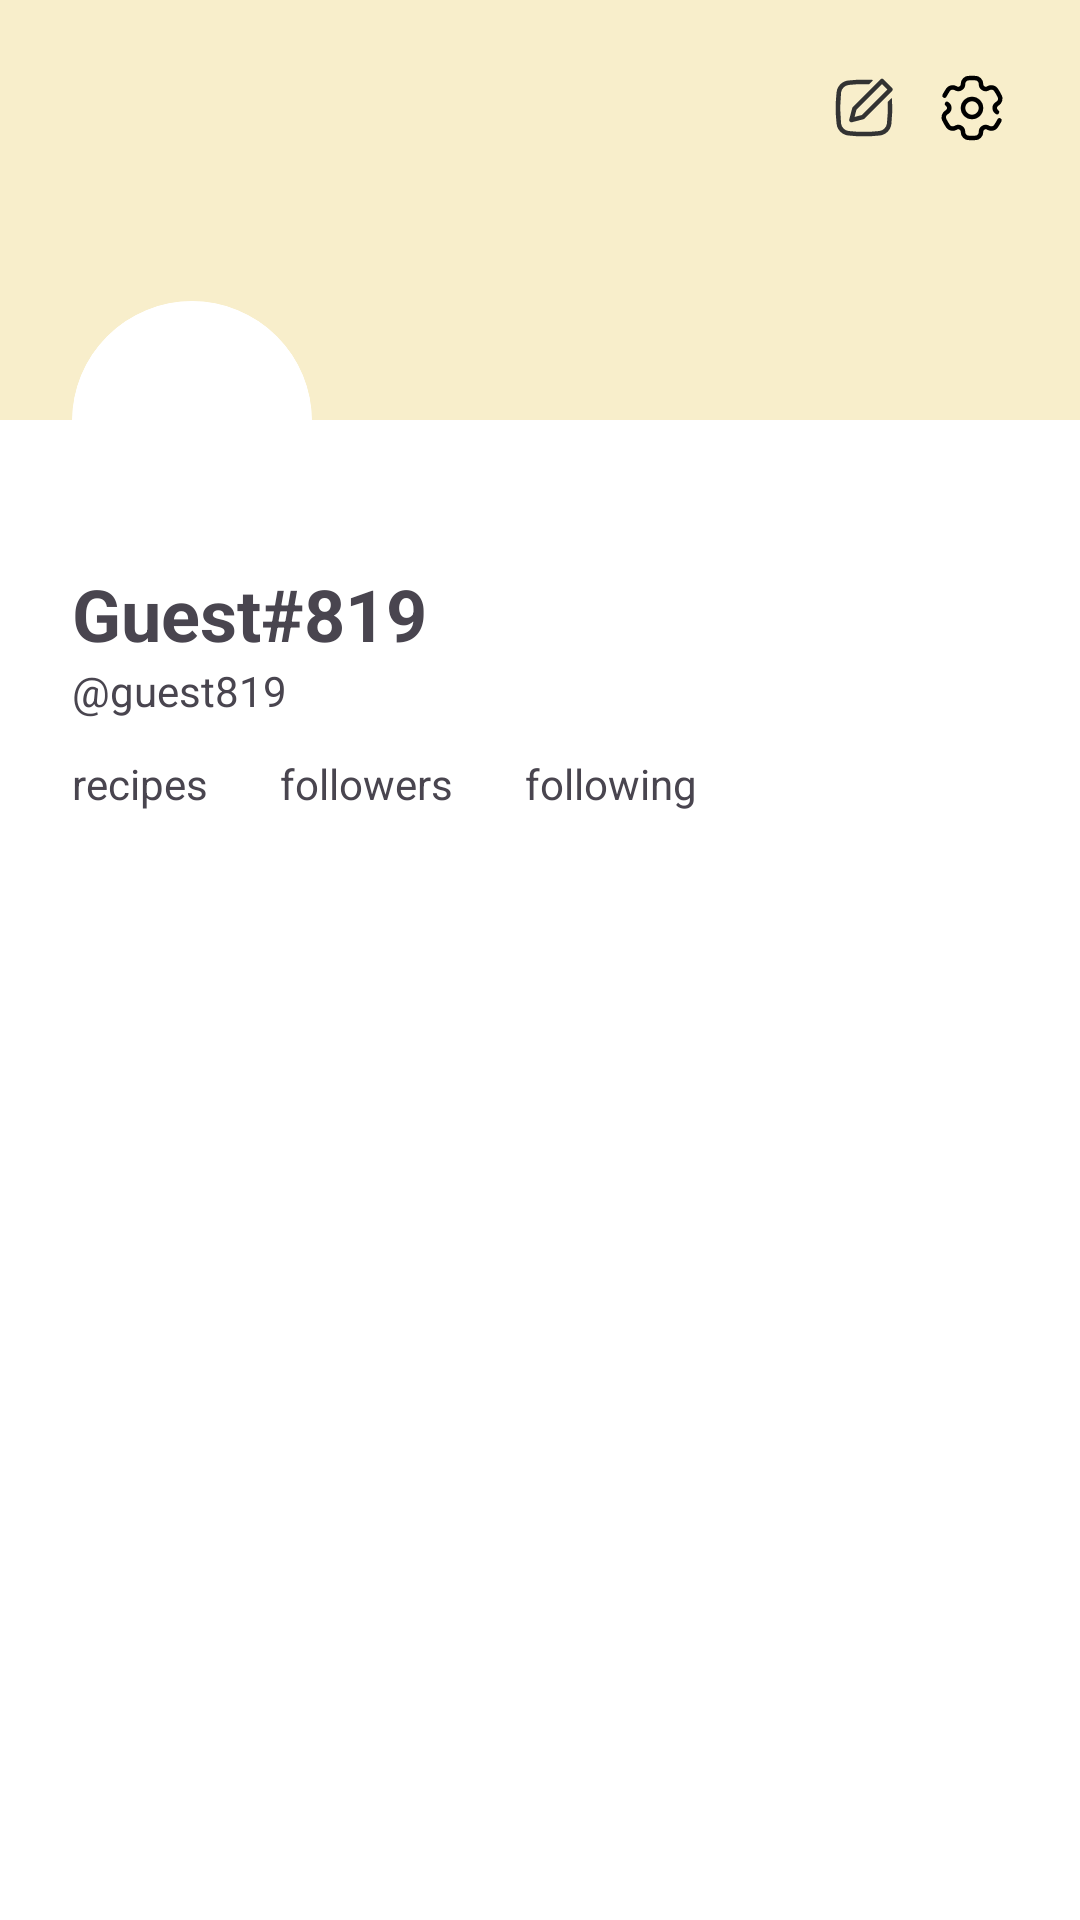

Where icons sit on this 1080×1920 app screen, as (x1, y1, x2, y2):
edit: (835, 78, 893, 137)
settings: (941, 75, 1003, 141)
